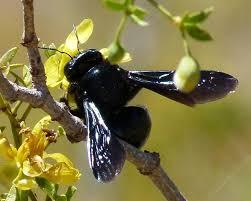Xylocopa: (48, 21, 236, 191)
